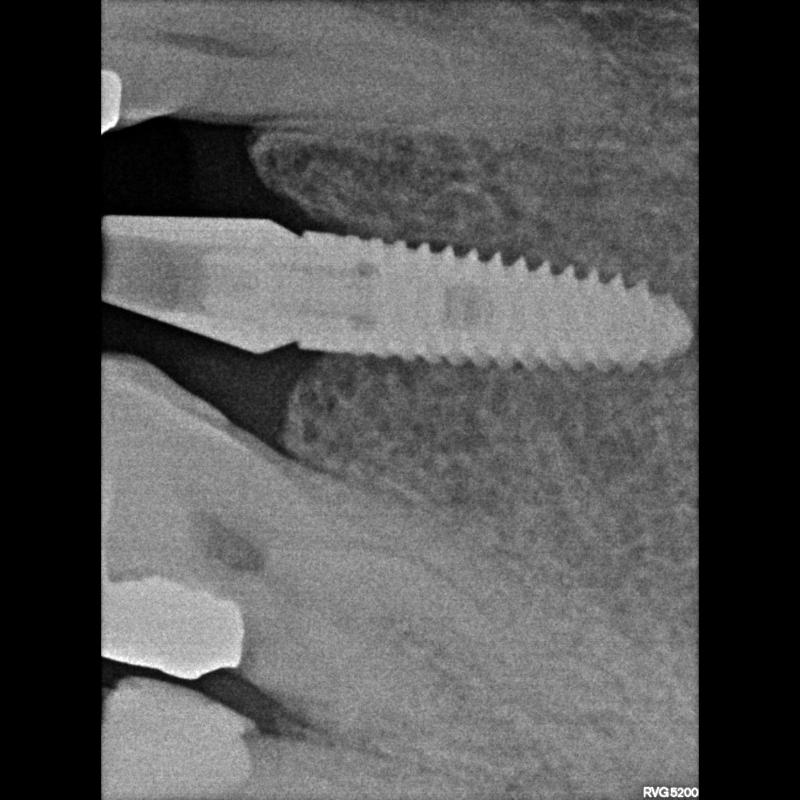MIS: (295, 224, 699, 378)
